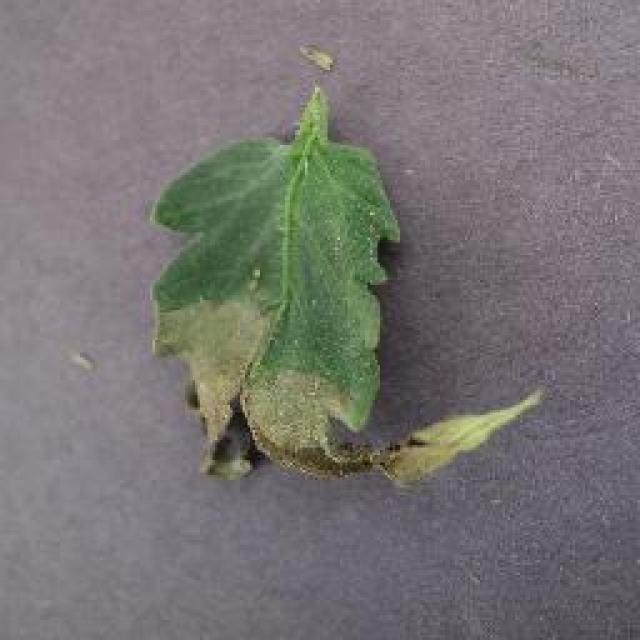Tomato Late Blight: (185, 238, 460, 502)
